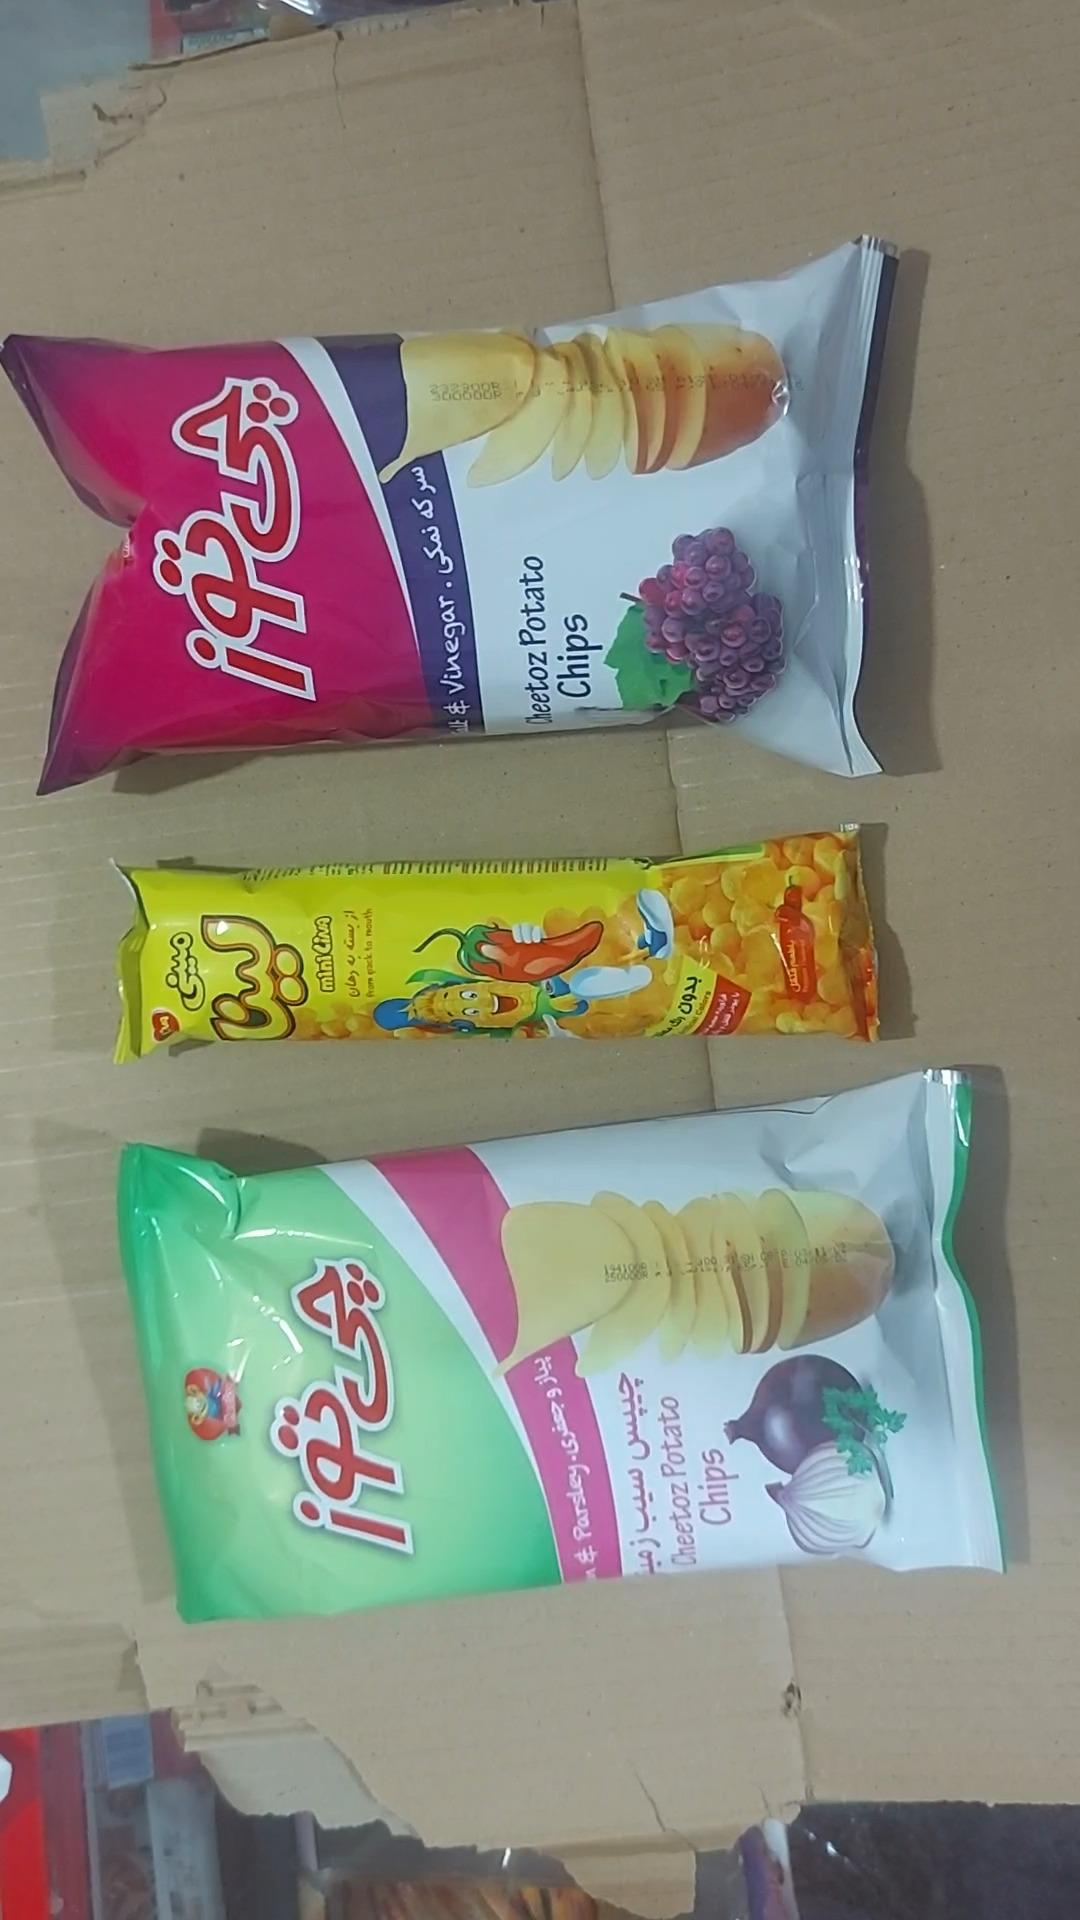Cheetoz onion and parsley chips: (119, 1069, 1009, 1622)
Cheetoz vinegar chips: (0, 240, 895, 793)
Mini Lina: (115, 828, 878, 1062)
